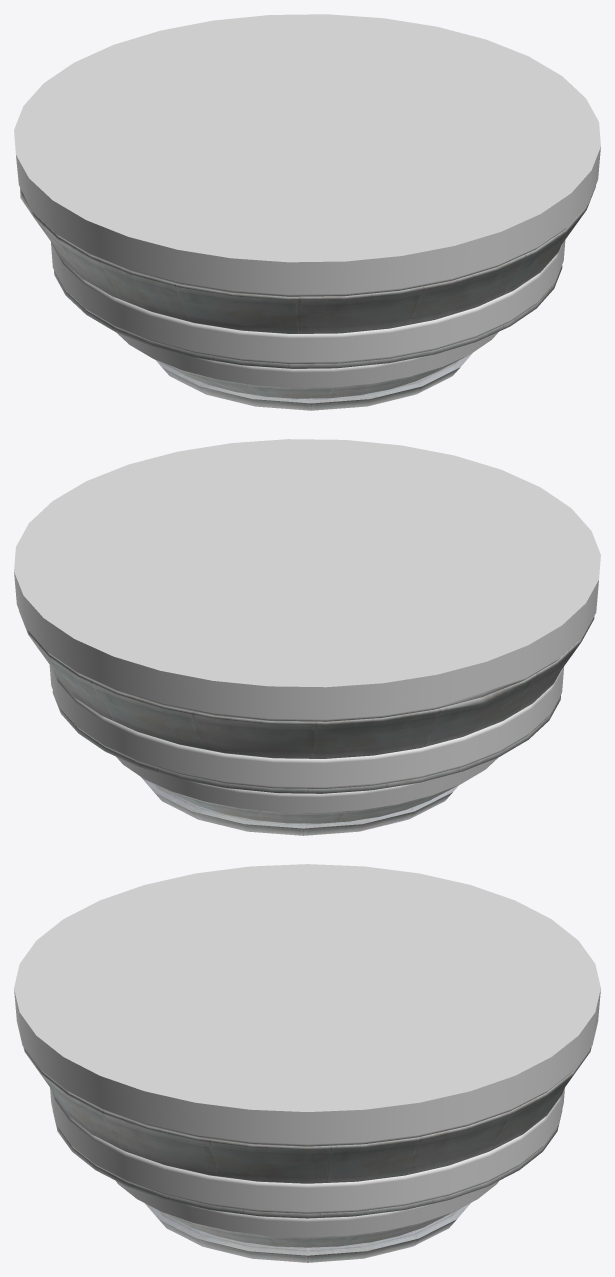
File: SM_TowerA_Overhang.fbx
The picture shows the model from 3 angles, top to bottom: view 1: azimuth 30°, elevation 25°; view 2: azimuth 150°, elevation 25°; view 3: azimuth 270°, elevation 25°; orthographic projection.
Visible parts, largest first — view 1: SM_TowerA_Overhang_LOD0; view 2: SM_TowerA_Overhang_LOD0; view 3: SM_TowerA_Overhang_LOD0.
Part boxes in pixels (left/top/right/bottom): SM_TowerA_Overhang_LOD0: left=14, top=14, right=600, bottom=410; SM_TowerA_Overhang_LOD0: left=14, top=439, right=600, bottom=835; SM_TowerA_Overhang_LOD0: left=14, top=864, right=600, bottom=1262.
Size of what is drawn, in the model's own units: 8 by 3.07 by 8.
